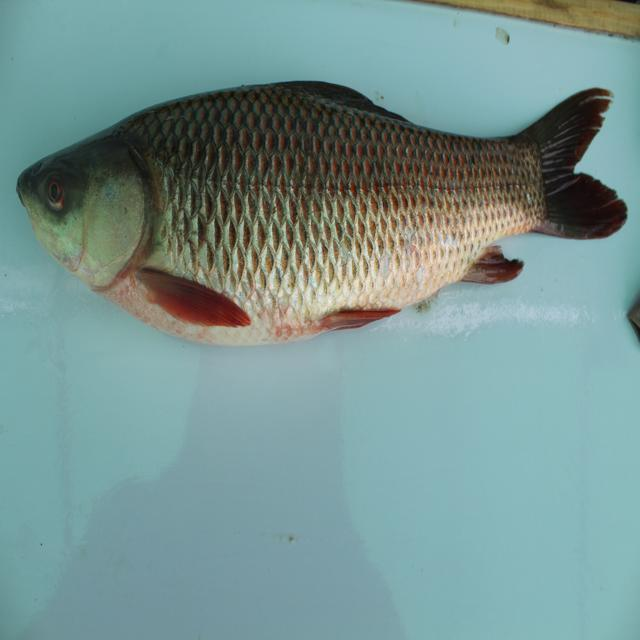Rohu: (25, 77, 632, 342)
